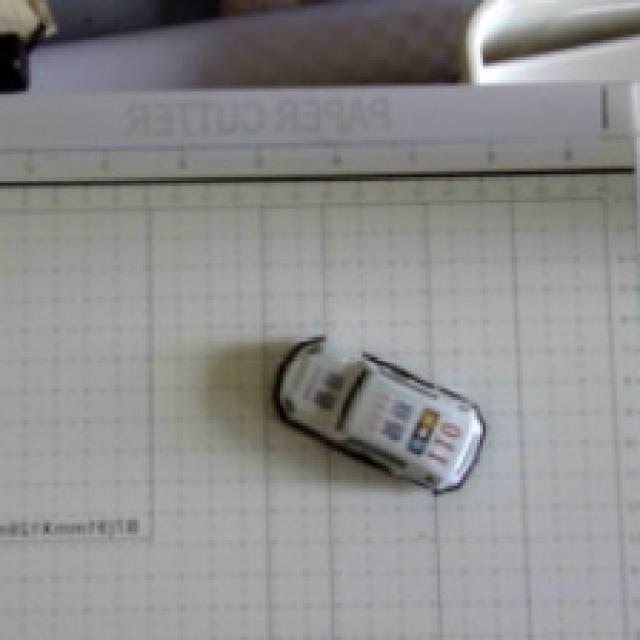Grey Car: (246, 289, 516, 545)
